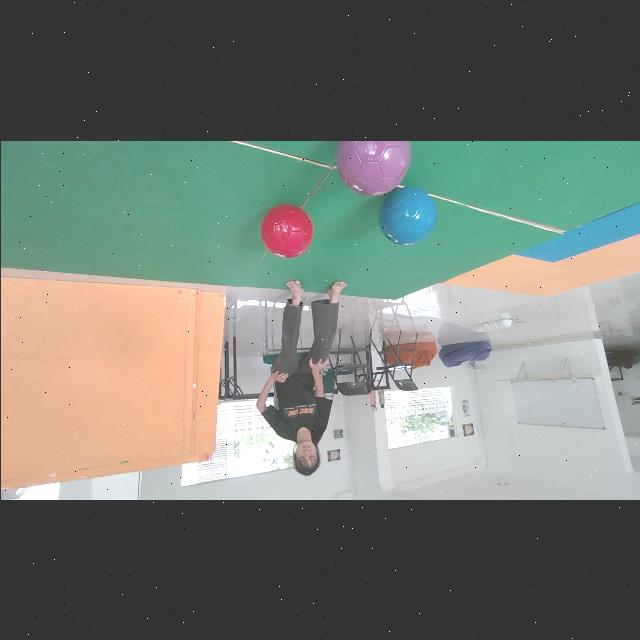B: (378, 186, 435, 245)
P: (335, 140, 410, 195)
R: (260, 204, 312, 257)
